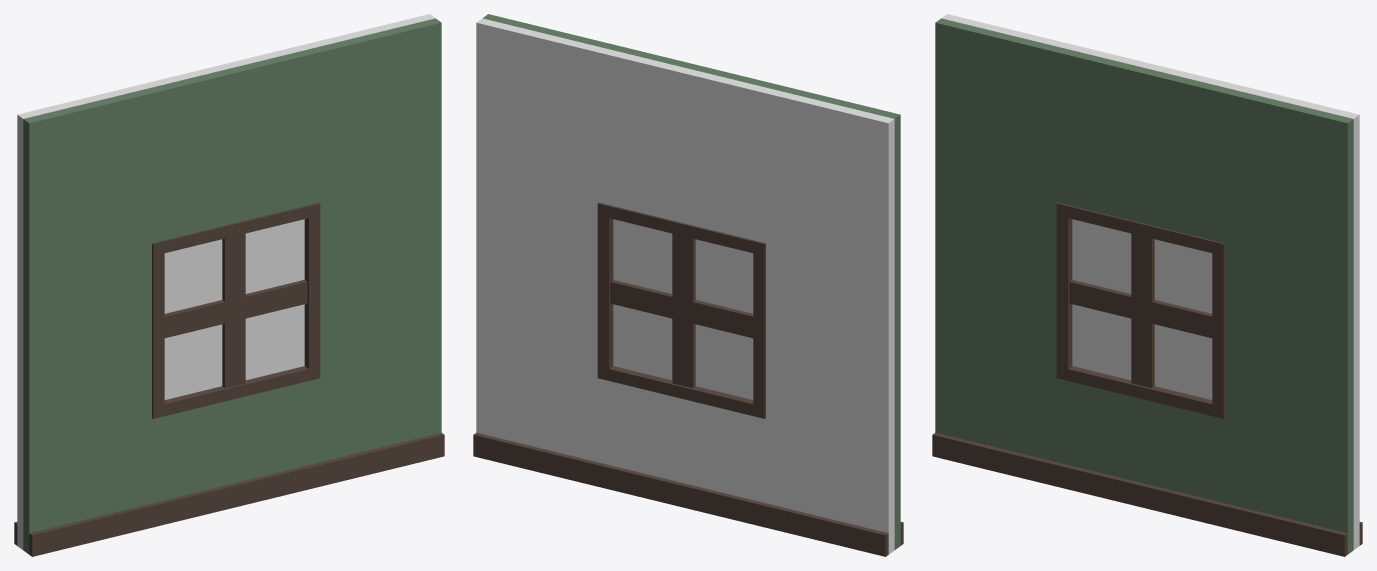
File: h_wall_1_window1_4.fbx
3 views of the same model, side by side, from view 1: azimuth 30°, elevation 25°; view 2: azimuth 150°, elevation 25°; view 3: azimuth 330°, elevation 25° (orthographic).
Visible parts, largest first — view 1: Cube; view 2: Cube; view 3: Cube.
Boxes of the visible parts, <box> form: Cube: <box>14,14,444,556</box>; Cube: <box>473,14,903,556</box>; Cube: <box>932,14,1362,556</box>.
Bounding box in the file's own units: 400 × 400 × 30.
